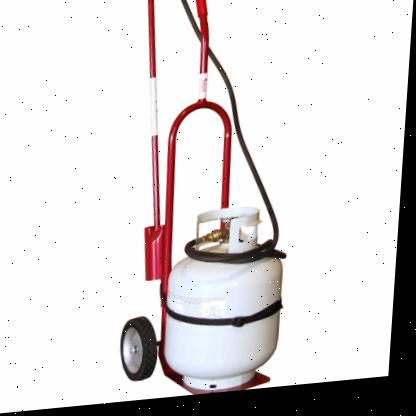gas-tank: (162, 198, 307, 401)
